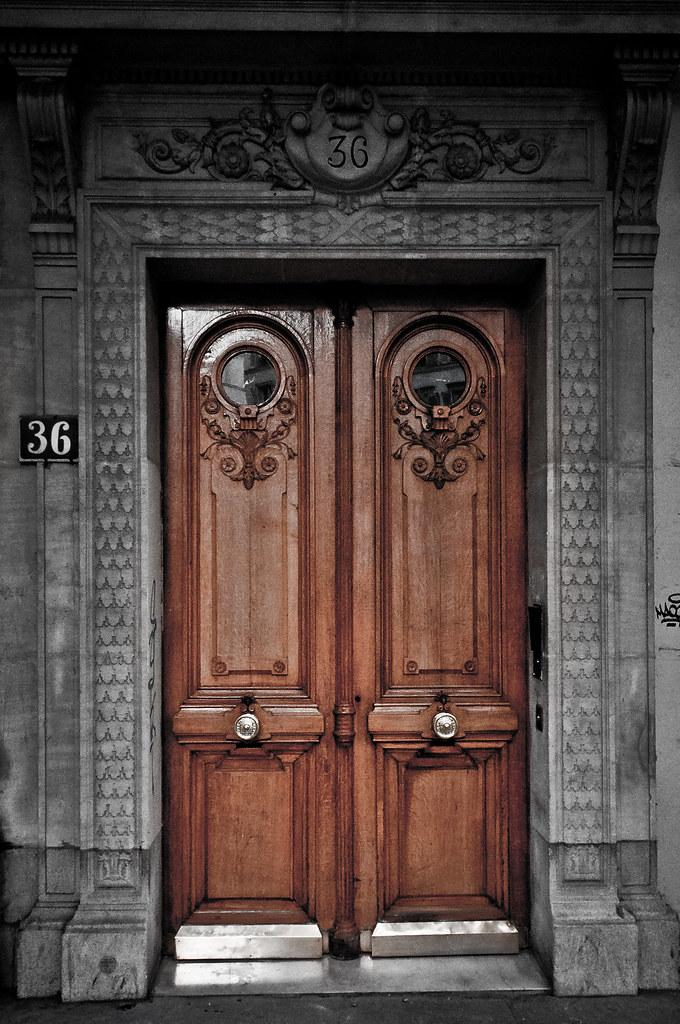door: (162, 288, 531, 960)
